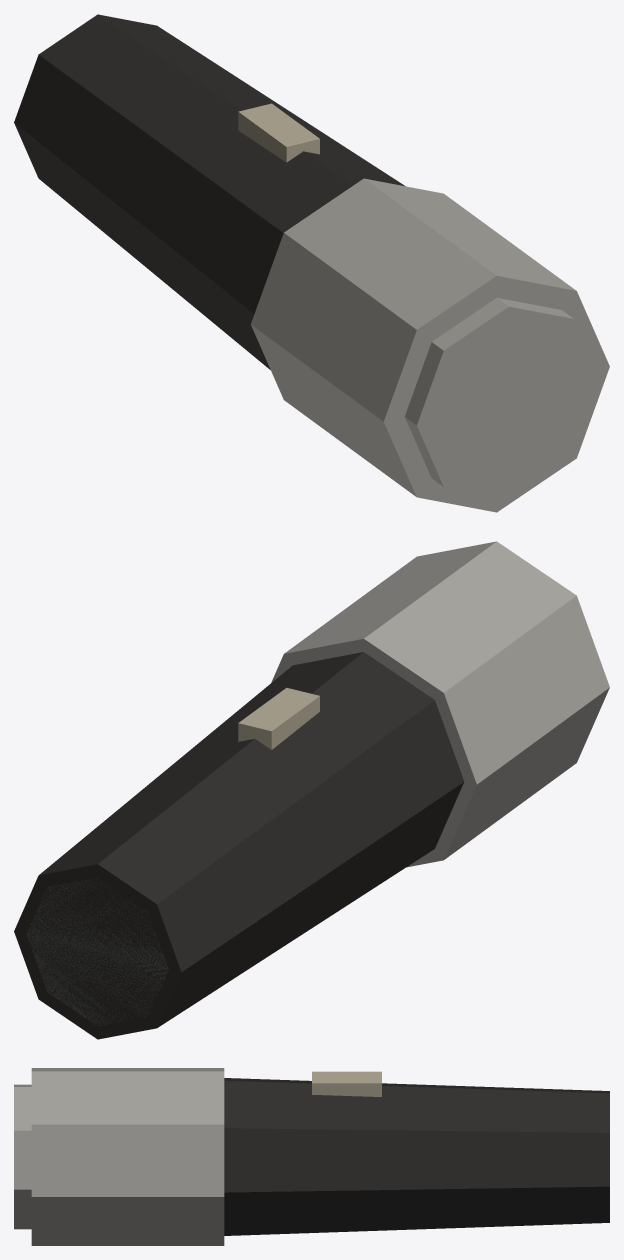
The model's file is dynamic-mic.glb.
3 views of the same model, one above another, from view 1: azimuth 30°, elevation 25°; view 2: azimuth 150°, elevation 25°; view 3: azimuth 270°, elevation 25° (orthographic). The views are drawn at different scales.
Parts seen in each view (by area): view 1: brushed, plastic-dark, plastic-light; view 2: plastic-dark, brushed, metal, plastic-light; view 3: plastic-dark, brushed, plastic-light.
Boxes of the visible parts, bbox=[...] form: brushed: bbox=[251, 178, 609, 512]; plastic-dark: bbox=[14, 14, 405, 369]; plastic-light: bbox=[238, 103, 319, 162]; plastic-dark: bbox=[14, 652, 464, 1039]; brushed: bbox=[271, 541, 609, 867]; metal: bbox=[27, 878, 168, 1025]; plastic-light: bbox=[238, 687, 319, 749]; plastic-dark: bbox=[224, 1078, 609, 1235]; brushed: bbox=[14, 1068, 224, 1245]; plastic-light: bbox=[312, 1071, 381, 1096].
Bounding box in the file's own units: 0.054 × 0.054 × 0.17.
